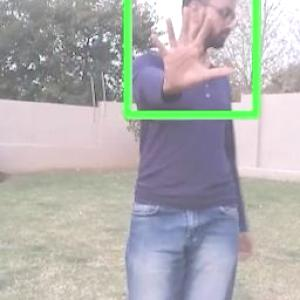follow_hand: (143, 2, 241, 95)
